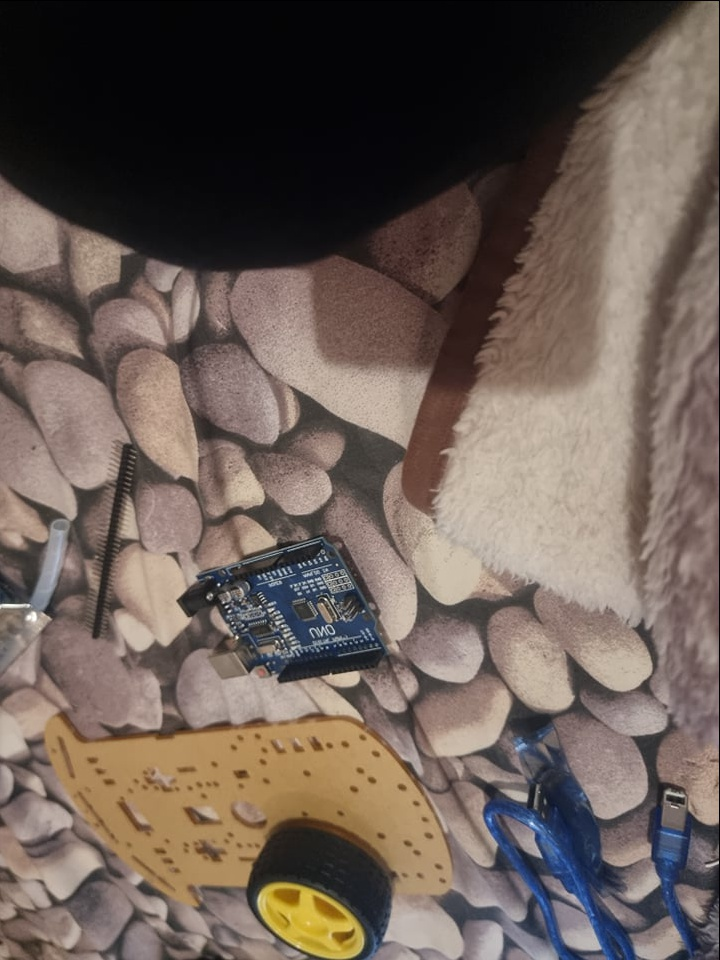UNO R3: (179, 533, 388, 683)
